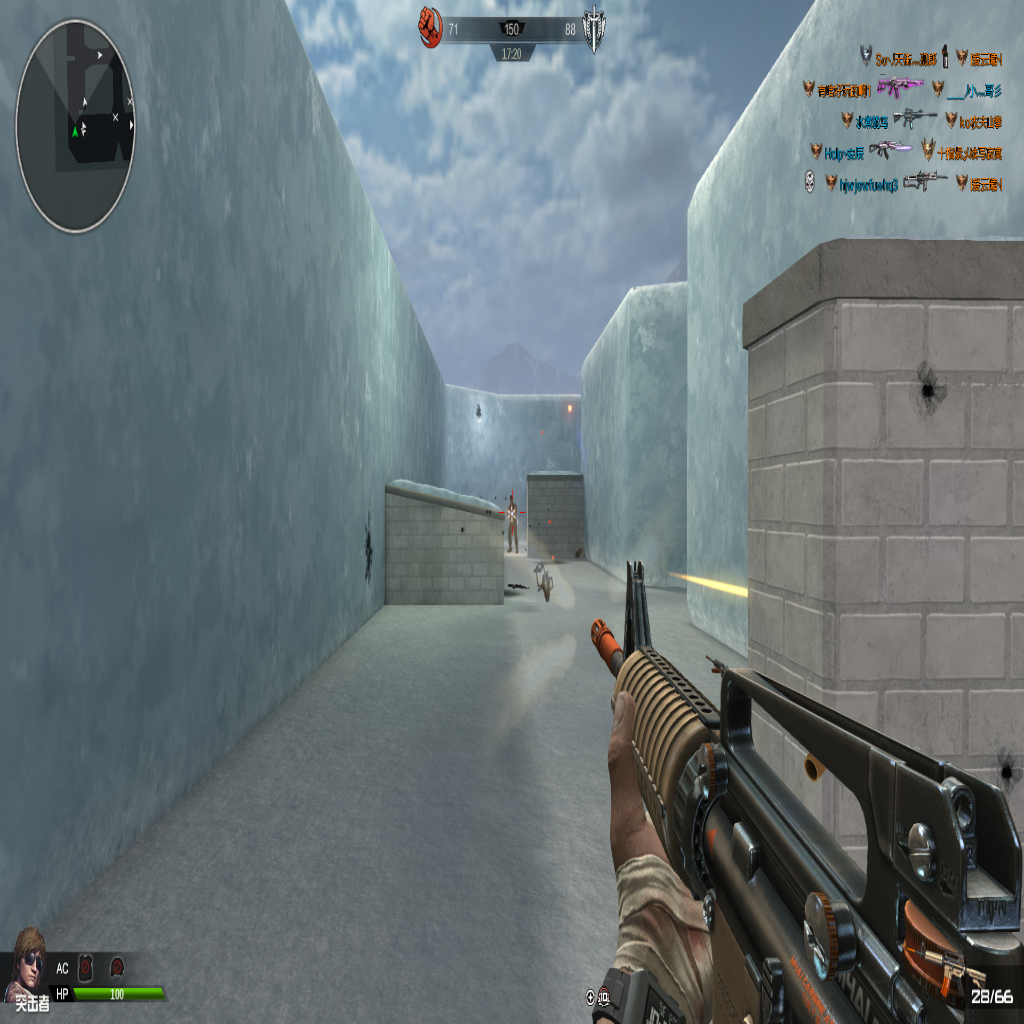ct: (508, 488, 518, 556)
